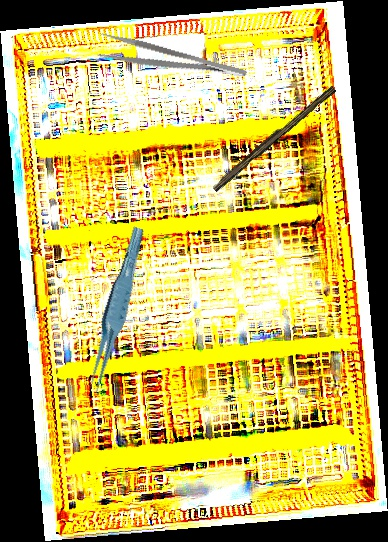Dressing Forceps: (94, 30, 250, 93)
Scalpel Handle: (210, 81, 337, 195)
Tissue Forceps: (74, 225, 157, 396)
